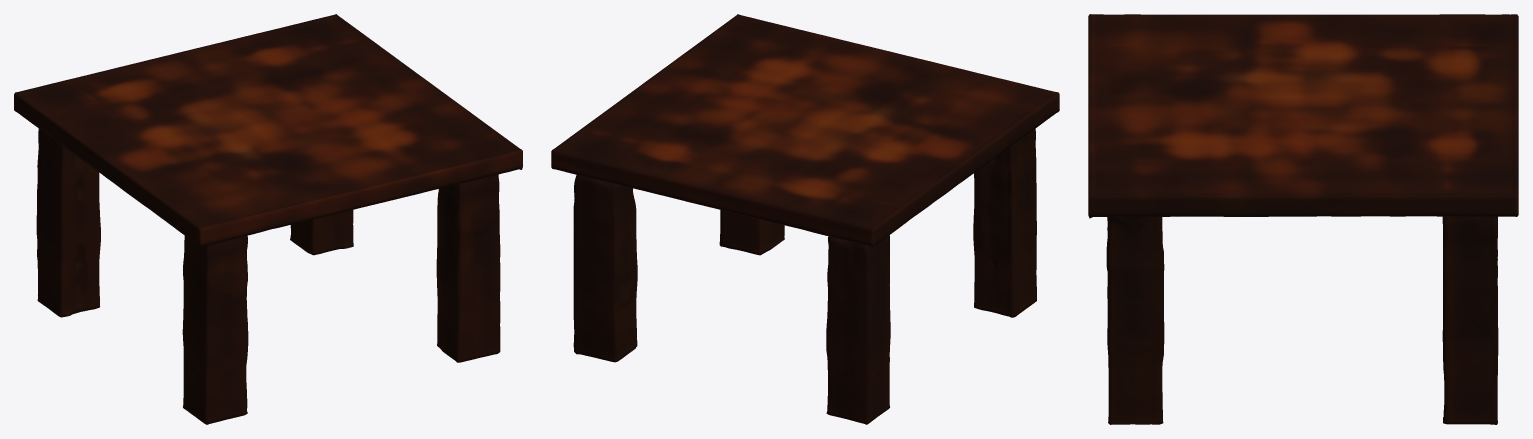
Rendered from This is table made up wood with square  shape. It .glb.
3 views of the same model, side by side, from view 1: azimuth 30°, elevation 25°; view 2: azimuth 150°, elevation 25°; view 3: azimuth 270°, elevation 25° (orthographic). The views are drawn at different scales.
Parts seen in each view (by area): view 1: This is table made up wood with square shape. It; view 2: This is table made up wood with square shape. It; view 3: This is table made up wood with square shape. It.
Boxes of the visible parts, bbox=[...] form: This is table made up wood with square shape. It: bbox=[14, 14, 522, 424]; This is table made up wood with square shape. It: bbox=[551, 14, 1059, 424]; This is table made up wood with square shape. It: bbox=[1088, 14, 1518, 424].
Bounding box in the file's own units: 1.98 × 1.22 × 1.98.
